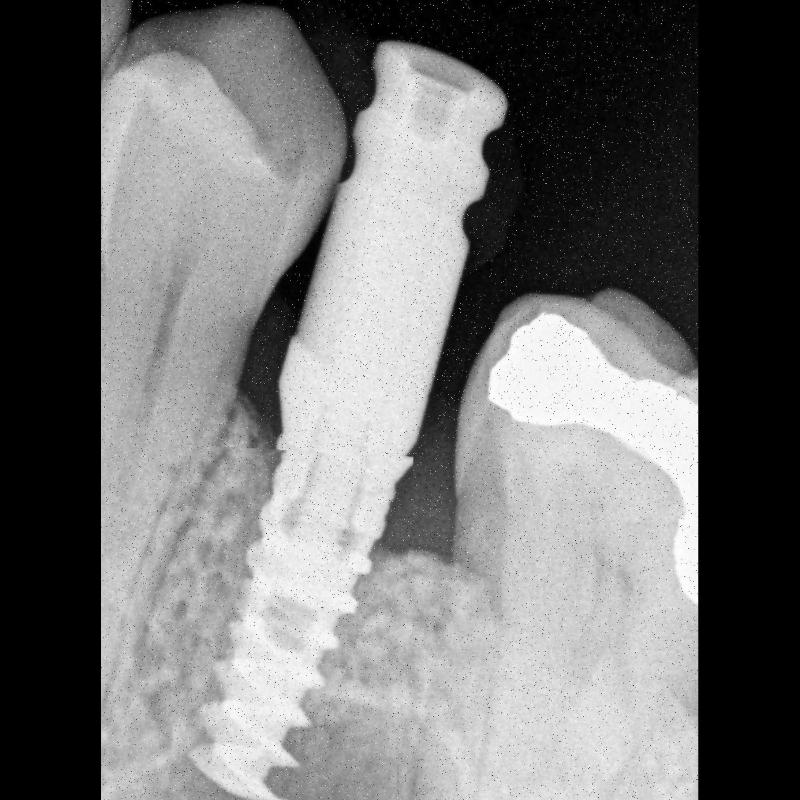ADIN: (174, 448, 408, 800)
